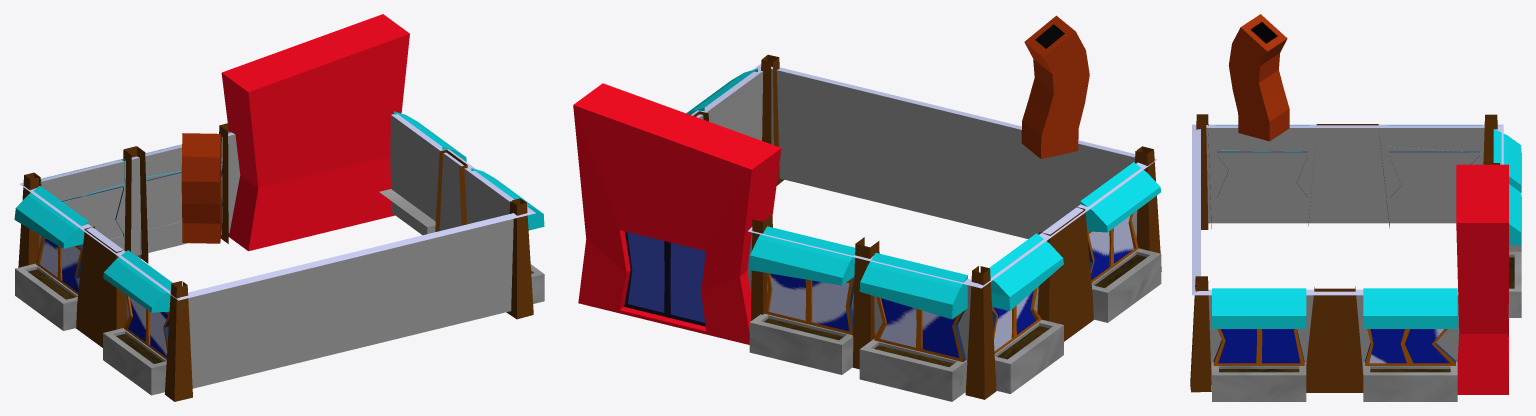
File: Casa Padaria.fbx
3 renders of one model, left to right at view 1: azimuth 30°, elevation 25°; view 2: azimuth 150°, elevation 25°; view 3: azimuth 270°, elevation 25°, orthographic. The views are drawn at different scales.
Visible parts, largest first — view 1: Cube.016, Cube.018, Cube.019, Cube.020, Cube.021; view 2: Cube.019, Cube.016, Cube.018, Cube.020, Cube.021; view 3: Cube.016, Cube.019, Cube.018, Cube.020, Cube.021.
Boxes of the visible parts, left/top/right/bottom form: Cube.016: left=19, top=114, right=535, bottom=388; Cube.018: left=221, top=14, right=409, bottom=251; Cube.019: left=14, top=111, right=544, bottom=395; Cube.020: left=18, top=123, right=533, bottom=401; Cube.021: left=181, top=133, right=221, bottom=243; Cube.019: left=624, top=68, right=1161, bottom=401; Cube.016: left=691, top=64, right=1157, bottom=360; Cube.018: left=573, top=83, right=781, bottom=344; Cube.020: left=693, top=54, right=1161, bottom=399; Cube.021: left=1021, top=15, right=1089, bottom=158; Cube.016: left=1192, top=124, right=1503, bottom=384; Cube.019: left=1212, top=125, right=1521, bottom=401; Cube.018: left=1456, top=164, right=1508, bottom=394; Cube.020: left=1190, top=114, right=1499, bottom=392; Cube.021: left=1228, top=14, right=1289, bottom=141.
Bounding box in the file's own units: 1398 × 797 × 1049.
